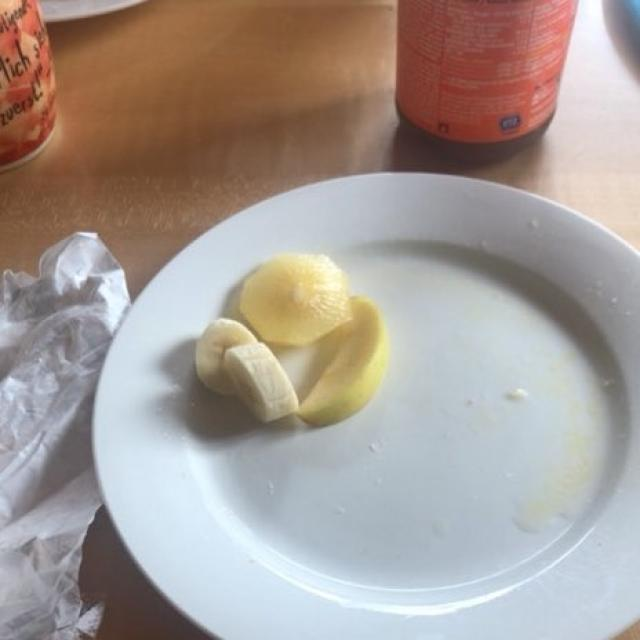apple: (225, 254, 396, 424)
banana: (188, 314, 304, 432)
